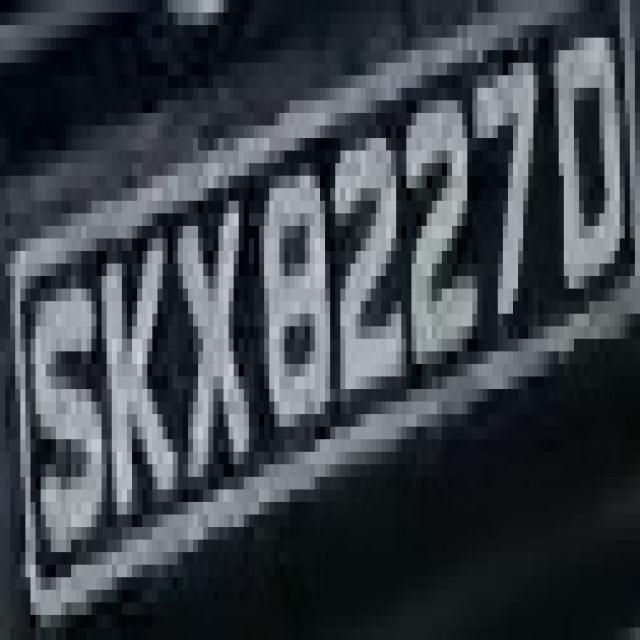2: (386, 62, 483, 402), (330, 100, 401, 402)
7: (462, 25, 549, 364)
8: (244, 150, 340, 452)
D: (543, 0, 629, 326)
K: (91, 226, 173, 514)
S: (25, 264, 107, 602)
X: (163, 176, 259, 514)
